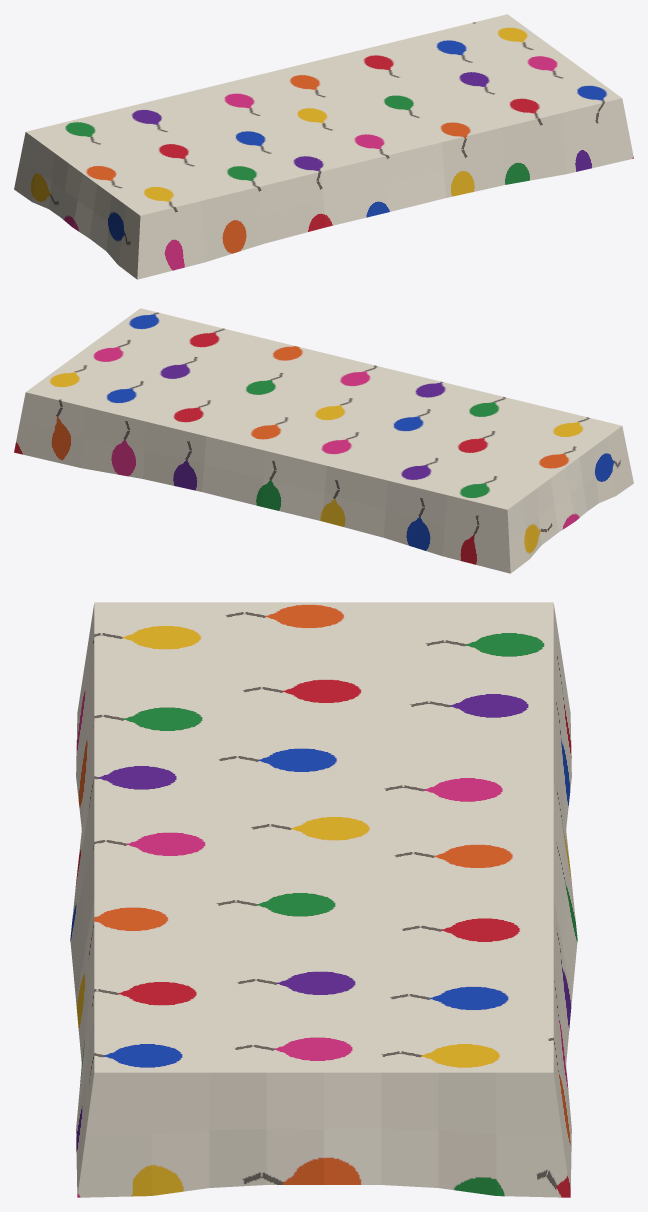
The model's file is party_cloth_rect_balloons.glb.
3 views of the same model, one above another, from view 1: azimuth 30°, elevation 25°; view 2: azimuth 150°, elevation 25°; view 3: azimuth 270°, elevation 25° (orthographic). The views are drawn at different scales.
Parts seen in each view (by area): view 1: party_cloth_rect_balloons; view 2: party_cloth_rect_balloons; view 3: party_cloth_rect_balloons.
Part boxes in pixels (x1,y1,x2,y2): party_cloth_rect_balloons: (14, 14, 633, 279); party_cloth_rect_balloons: (14, 308, 633, 573); party_cloth_rect_balloons: (70, 602, 577, 1197).
Bounding box in the file's own units: 2.22 × 0.2493 × 0.97.
1 material, 1 textured.
